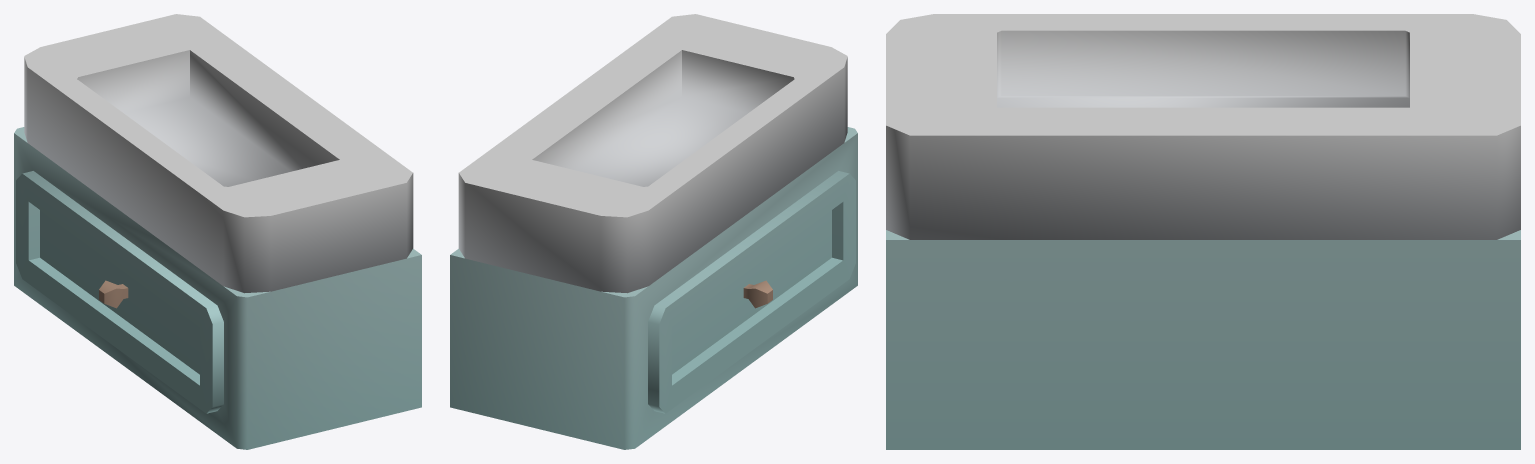
Rendered from sink-hanging-cabinets-classic-double (%wall).glb.
3 renders of one model, left to right at view 1: azimuth 30°, elevation 25°; view 2: azimuth 150°, elevation 25°; view 3: azimuth 270°, elevation 25°, orthographic. The views are drawn at different scales.
Visible parts, largest first — view 1: sink-hanging-cabinets-classic-double (%wall); view 2: sink-hanging-cabinets-classic-double (%wall); view 3: sink-hanging-cabinets-classic-double (%wall).
Boxes of the visible parts, box(x1,y1,x2,y2) form: sink-hanging-cabinets-classic-double (%wall): box(14, 14, 421, 449); sink-hanging-cabinets-classic-double (%wall): box(450, 14, 857, 449); sink-hanging-cabinets-classic-double (%wall): box(886, 14, 1520, 449).
Size of the model in its own units: 0.4569 by 0.4865 by 0.8905.
